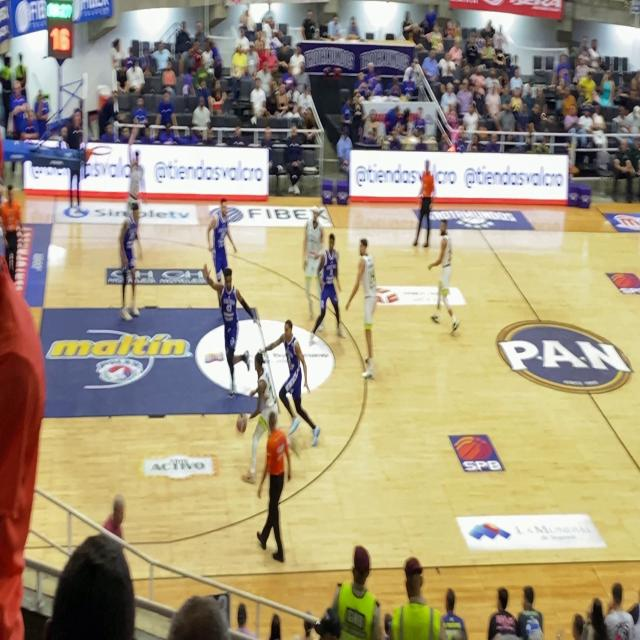Ball: (237, 412, 248, 432)
referee: (255, 402, 290, 575), (409, 159, 440, 257)
team1: (348, 231, 387, 377), (427, 208, 465, 343), (250, 342, 287, 414), (307, 205, 324, 322), (125, 143, 148, 207)
team2: (268, 302, 322, 447), (212, 267, 250, 390), (314, 231, 342, 349), (116, 203, 141, 324), (204, 194, 235, 270), (6, 170, 26, 274)
ubasket: (90, 145, 112, 167)
